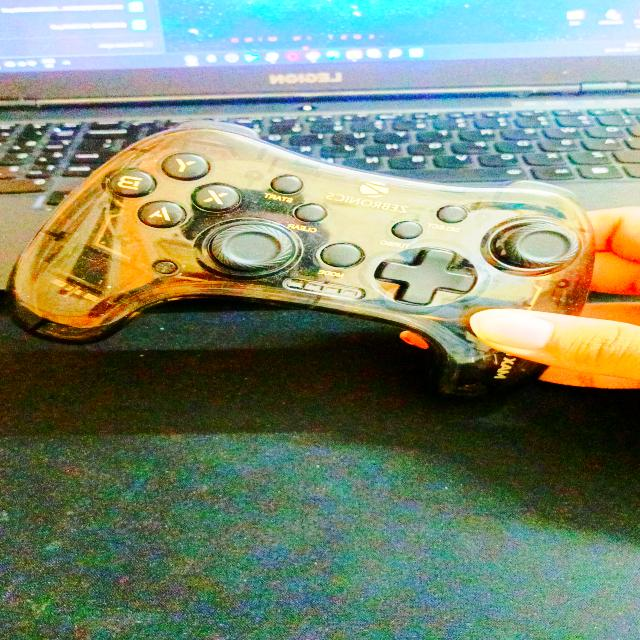gamepad: (9, 120, 598, 398)
